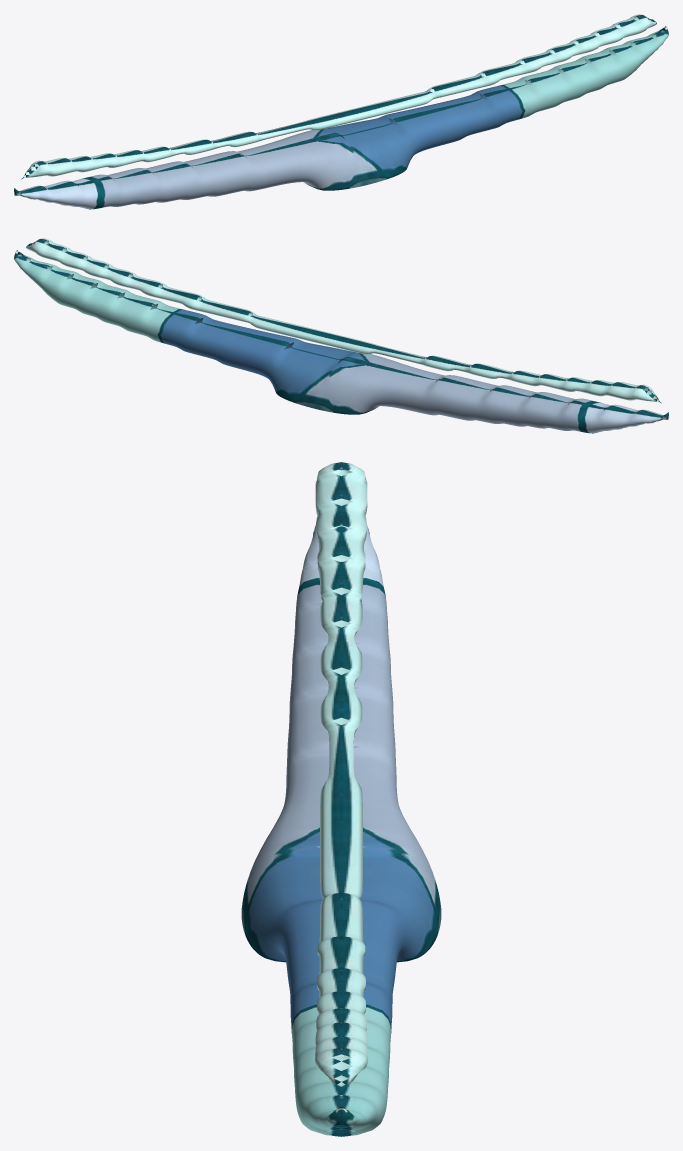
Rendered from ice_bridge.glb.
3 views of the same model, one above another, from view 1: azimuth 30°, elevation 25°; view 2: azimuth 150°, elevation 25°; view 3: azimuth 270°, elevation 25° (orthographic). The views are drawn at different scales.
Visible parts, largest first — view 1: ice_bridge; view 2: ice_bridge; view 3: ice_bridge.
Part boxes in pixels (x1,y1,x2,y2): ice_bridge: (14,14,668,209); ice_bridge: (14,238,668,433); ice_bridge: (241,462,441,1136).
Bounding box in the file's own units: 0.9894 × 0.1124 × 0.1312.
1 material, 1 textured.
